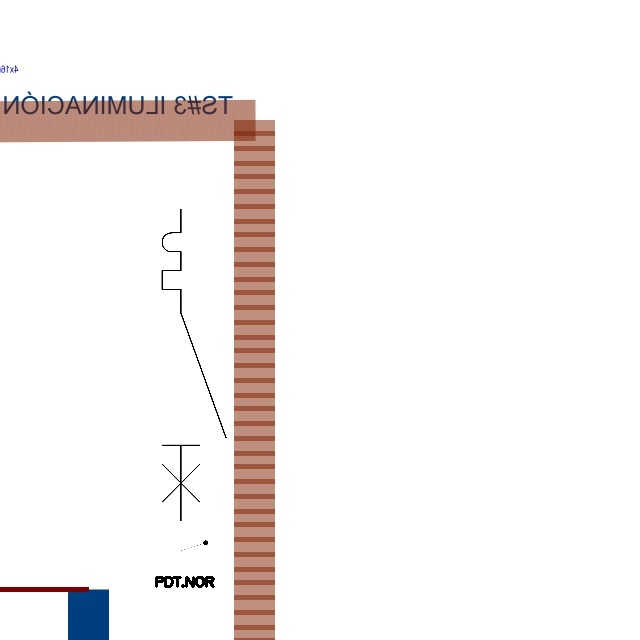interruptor_termomagnetico: (154, 201, 234, 529)
